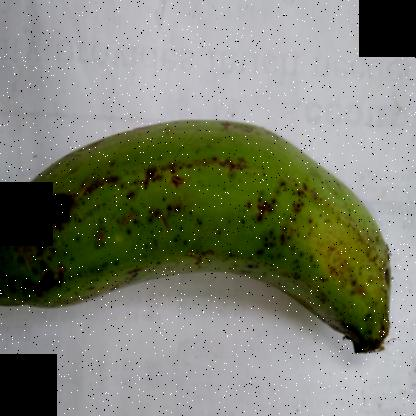unripe: (1, 96, 406, 368)
